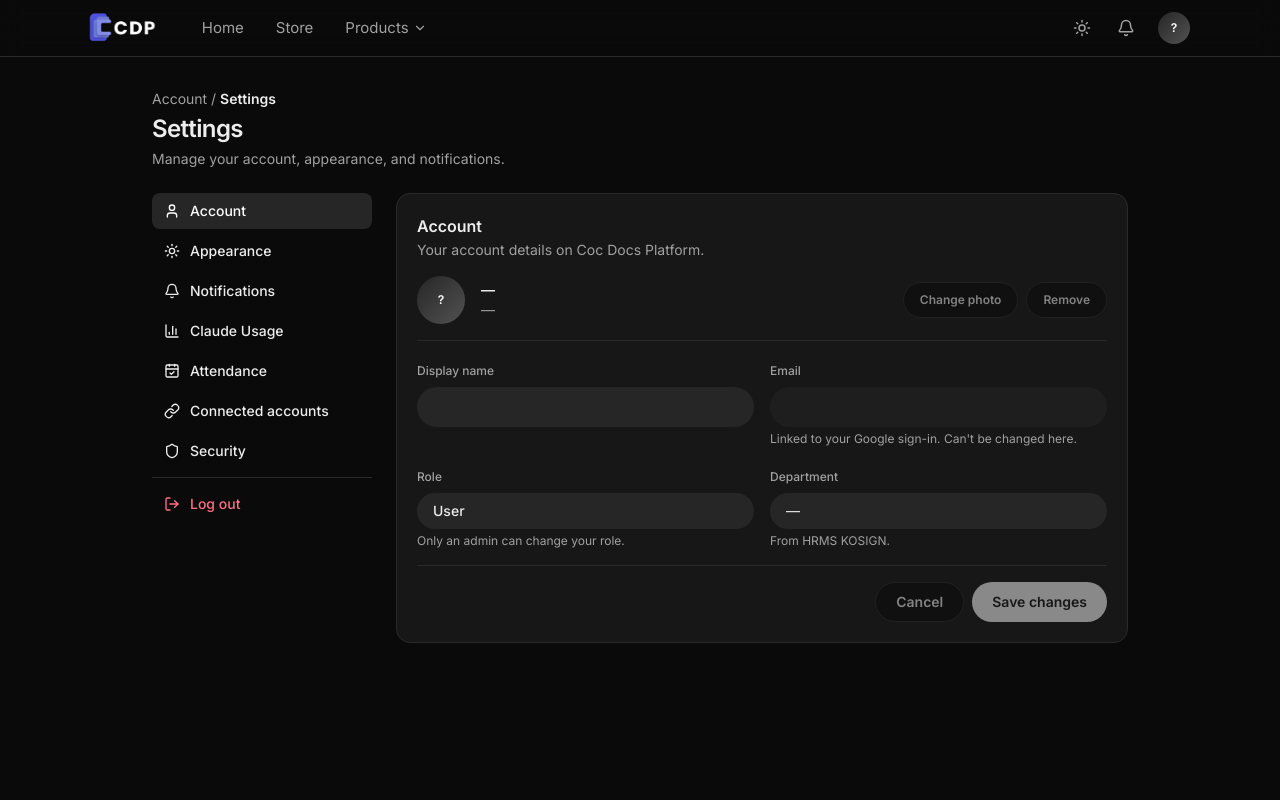
Test: AccountSettingsPage — tab behavior › switching tabs shows only the clicked section and updates the hash (AC3)
Click the tab "Security" at (262, 451), box [152,433,372,469]
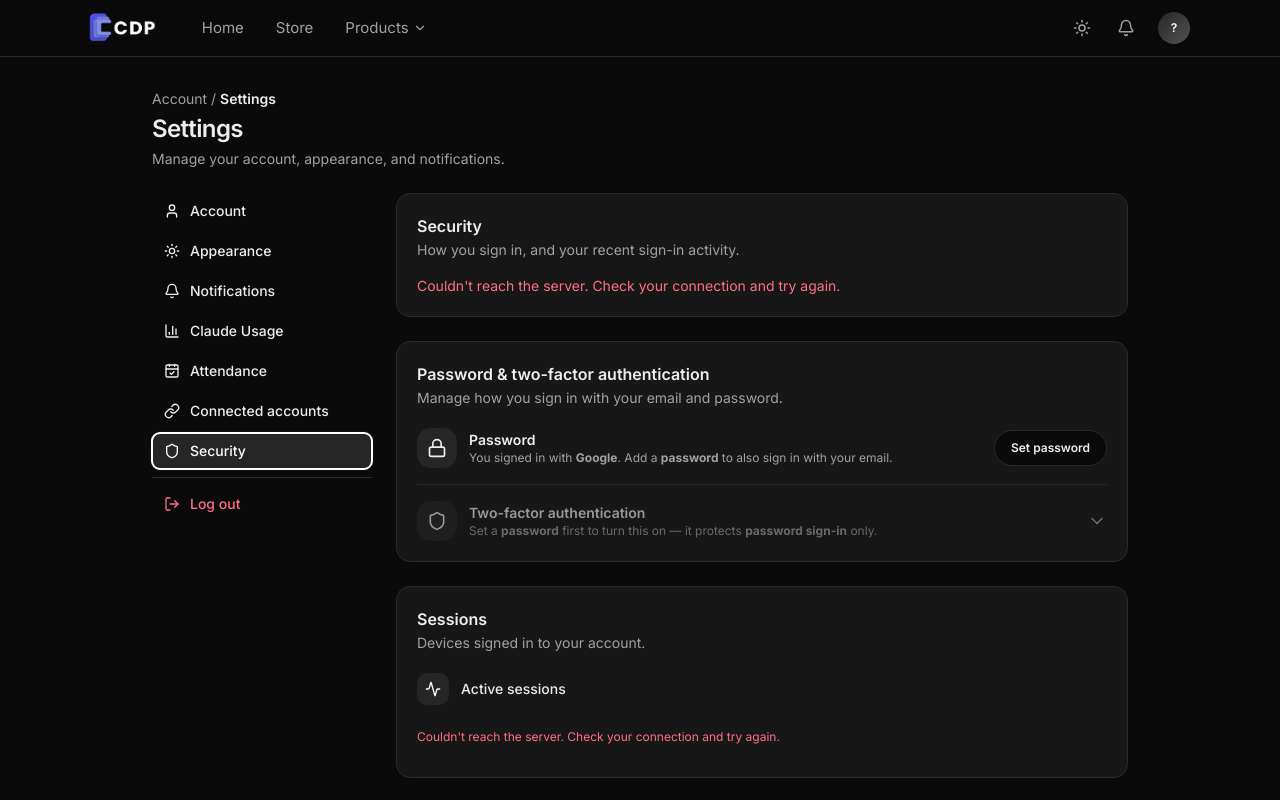
Now the panel "Security" is shown, box [396,193,1128,778]
